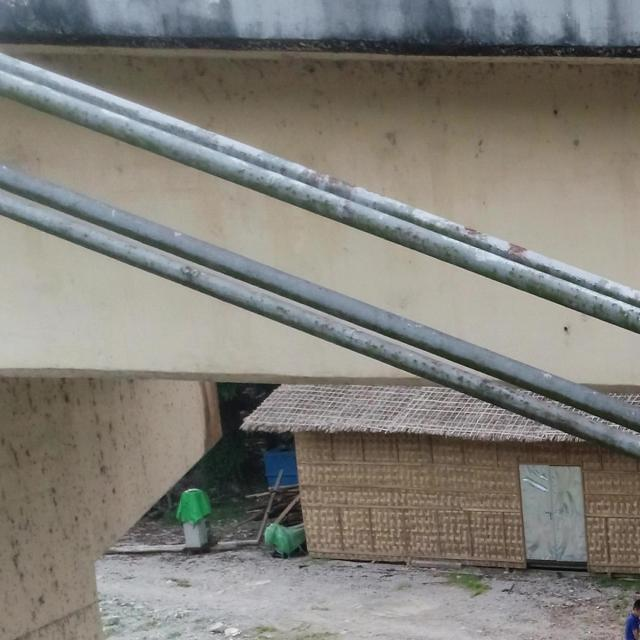corrosion: (327, 178, 352, 199), (302, 168, 325, 186), (505, 243, 528, 260), (462, 228, 481, 242)
